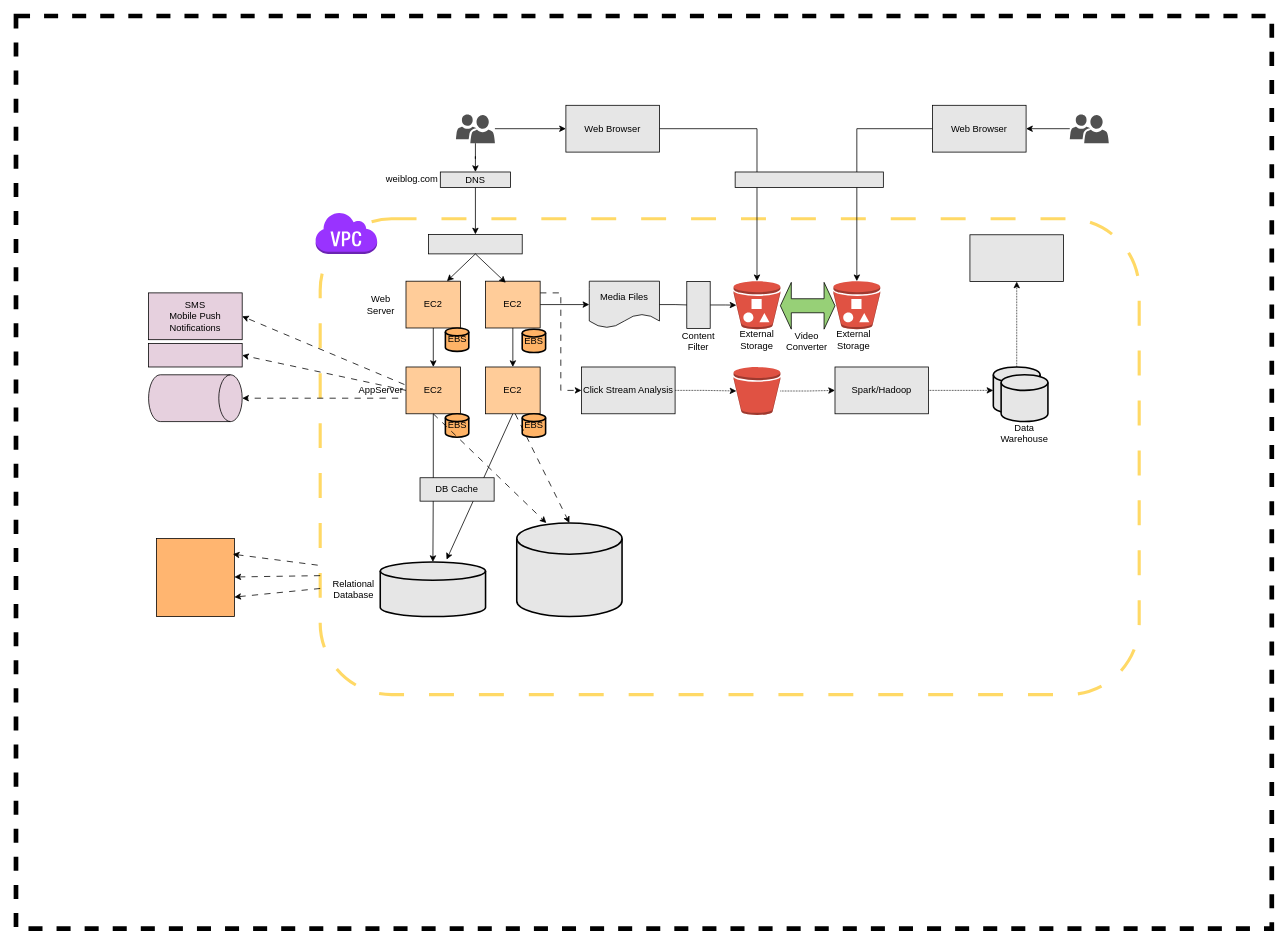
The diagram is 1287 pixels wide and 944 high, and some of its shapes have lost their labels. Here are the shapes that lost their labels. From the top down, the centre of each, then its label:
pixel 808 179: Content Delivery network (Cache)
pixel 475 244: Load Balancer
pixel 1016 258: Business Intelligence
pixel 195 355: Email
pixel 195 398: MQ
pixel 195 577: Monitoring Dashboard
pixel 432 589: DB
pixel 569 569: NoSQL DB
